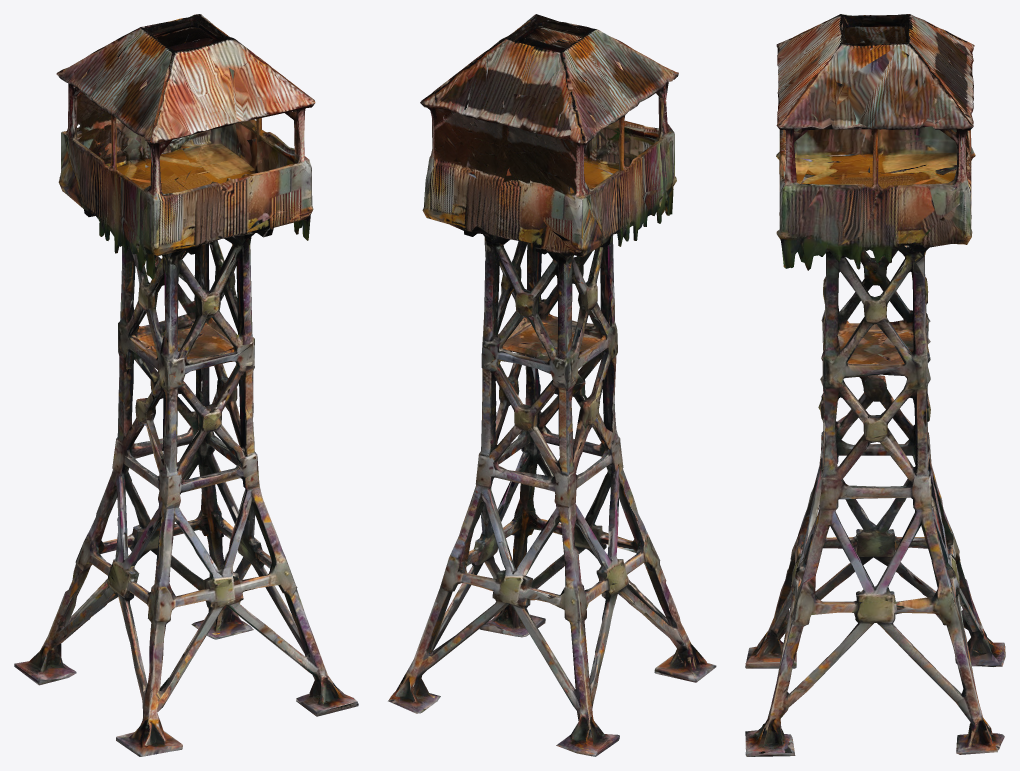
File: watchtower.glb
The picture shows the model from 3 angles, left to right: view 1: azimuth 30°, elevation 25°; view 2: azimuth 150°, elevation 25°; view 3: azimuth 270°, elevation 25°; orthographic projection. The views are drawn at different scales.
Parts seen in each view (by area): view 1: watchtower; view 2: watchtower; view 3: watchtower.
Boxes of the visible parts, x1,y1,x2,y2 form: watchtower: [14, 14, 358, 756]; watchtower: [388, 14, 716, 756]; watchtower: [745, 14, 1005, 756].
Bounding box in the file's own units: 70.21 × 201 × 70.3.
Materials: 1 (1 with a texture image).
